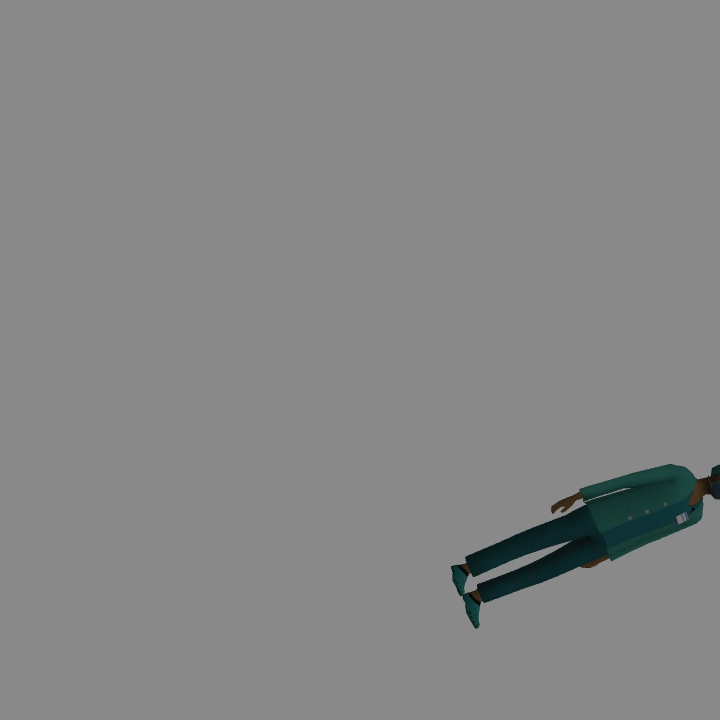victim: (453, 467, 720, 629)
